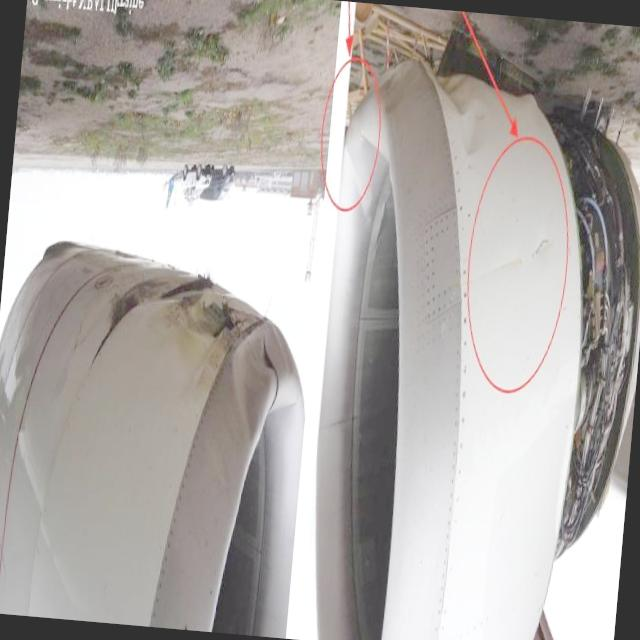crack: (526, 236, 550, 264)
dent: (427, 63, 492, 162)
